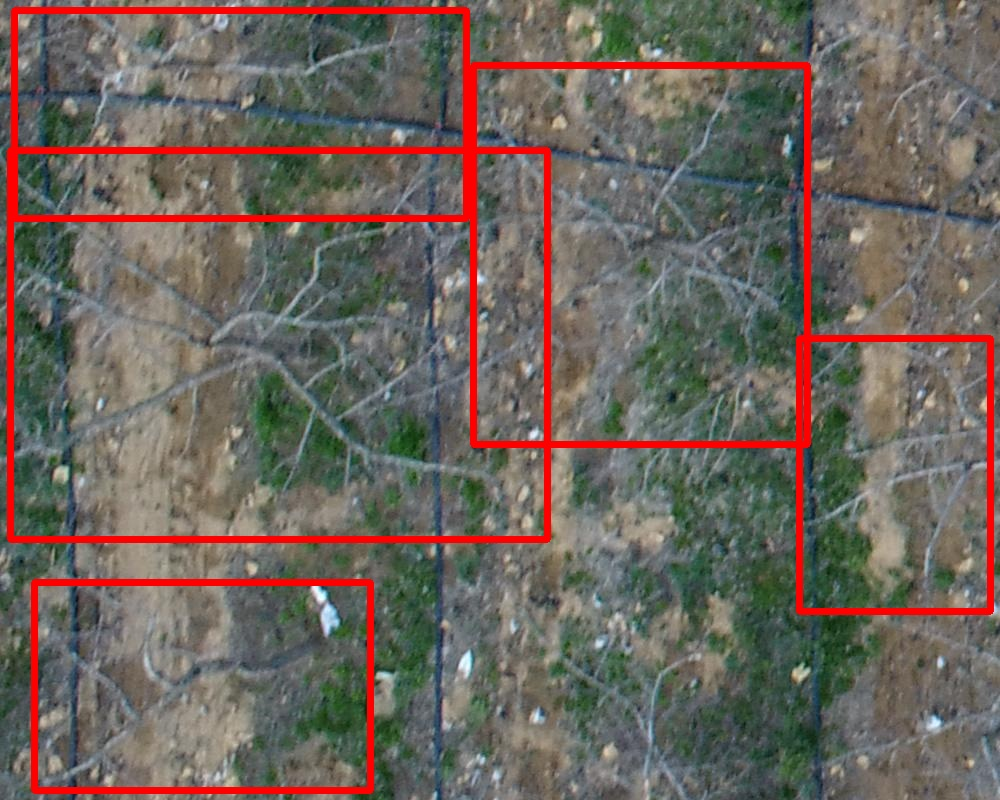apple: (10, 150, 547, 539), (473, 65, 807, 444), (14, 10, 466, 218), (34, 582, 370, 790), (799, 338, 990, 611)
